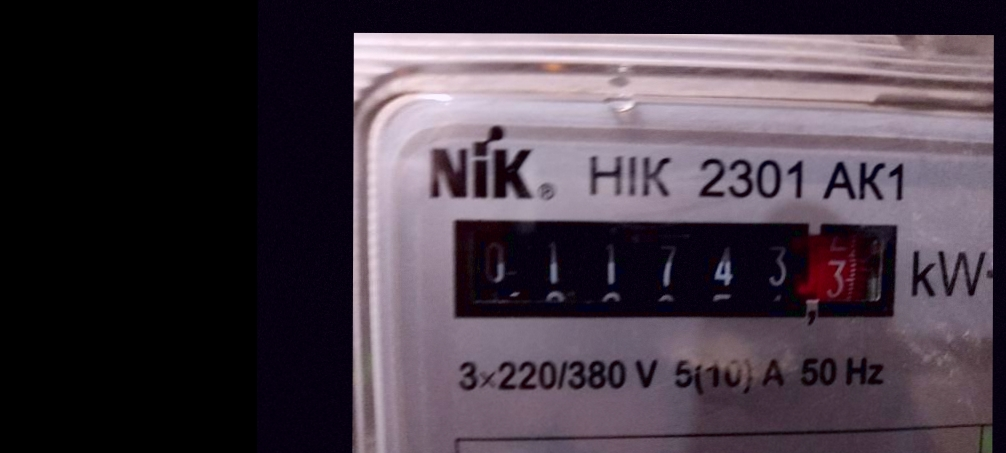0: (480, 237, 509, 284)
1: (600, 239, 621, 287), (545, 239, 562, 287)
3: (764, 241, 792, 288), (824, 256, 848, 300)
4: (710, 240, 738, 288)
7: (656, 241, 680, 289)
screen: (438, 209, 904, 329)
